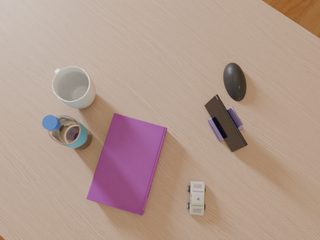book: (86, 113, 167, 215)
bottle: (42, 115, 92, 150)
cup: (52, 66, 96, 109)
mouse: (223, 63, 246, 101)
phone: (205, 95, 247, 152)
toy_car: (187, 181, 205, 215)
